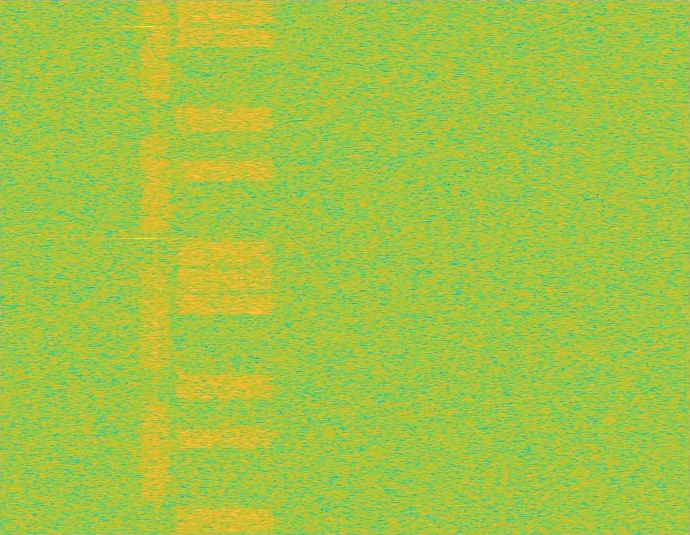5G: (138, 0, 173, 534)
DSSS: (153, 0, 158, 534)
LTE: (173, 0, 276, 534)
Radar: (138, 0, 152, 534)
